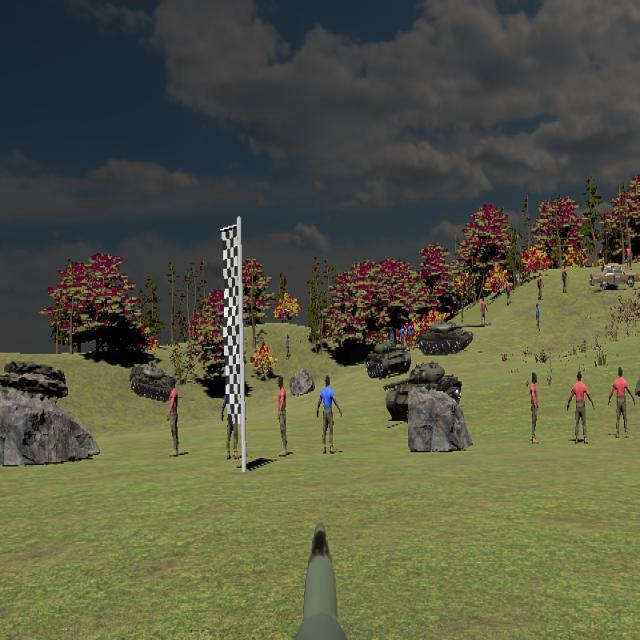Human: (567, 370, 595, 443), (317, 375, 342, 454), (608, 366, 635, 438), (166, 375, 180, 458), (277, 374, 288, 457), (530, 372, 540, 443)
Tank: (383, 362, 464, 420), (416, 321, 491, 356), (129, 362, 182, 402), (366, 340, 411, 378)
car: (589, 264, 639, 289)
